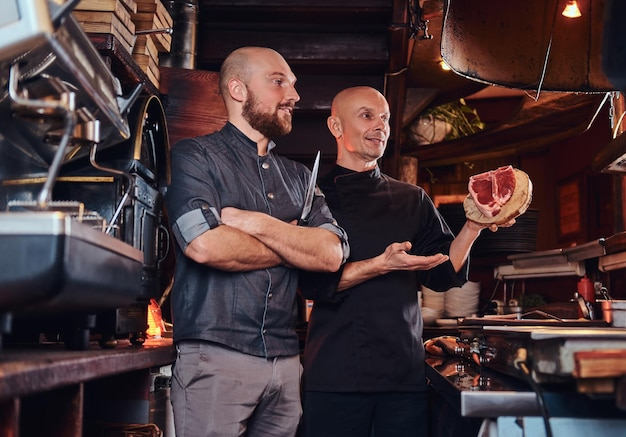knife: (299, 151, 323, 224)
